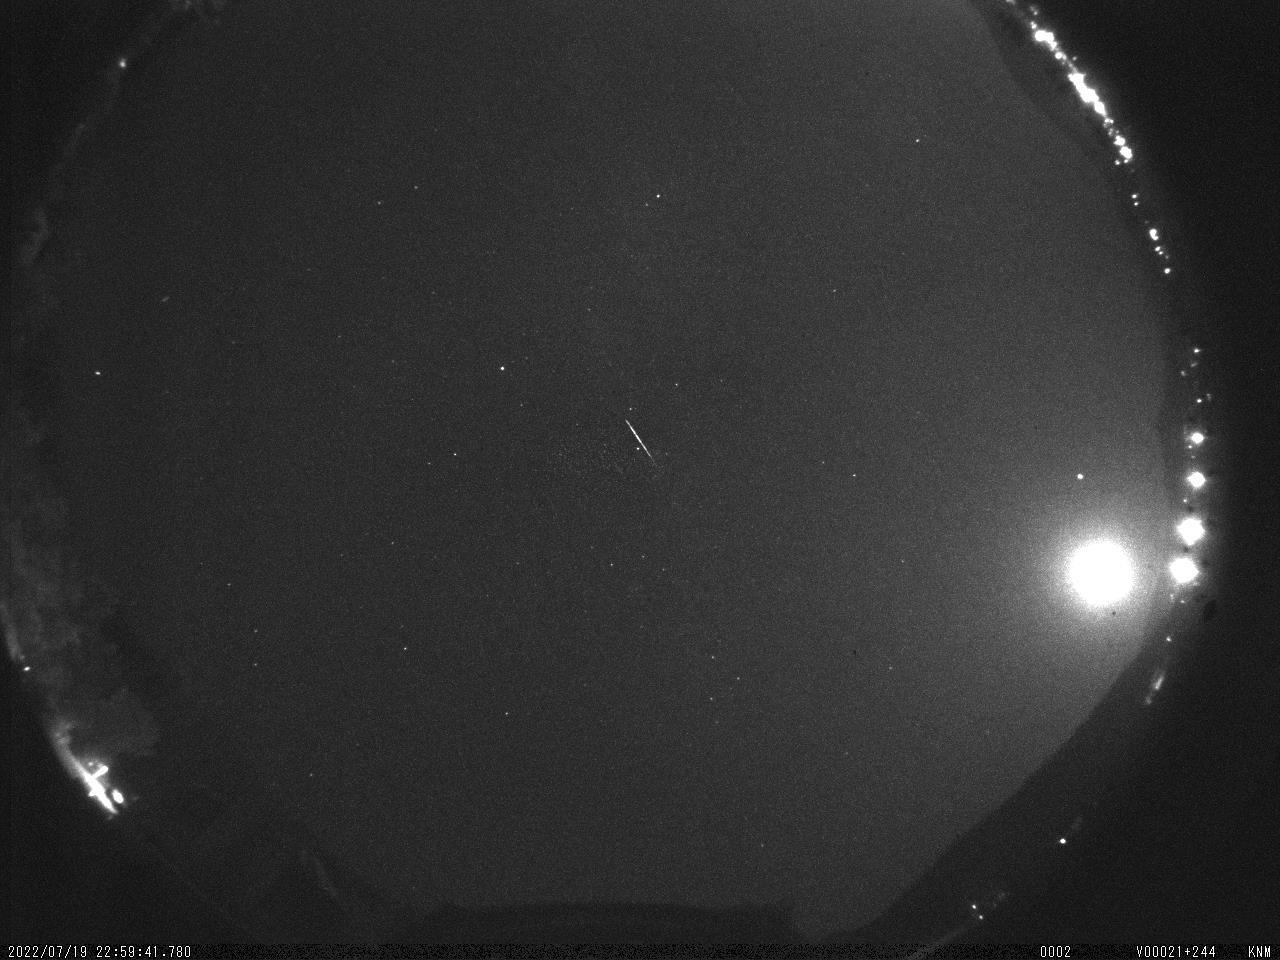Meteor: (622, 413, 660, 467)
